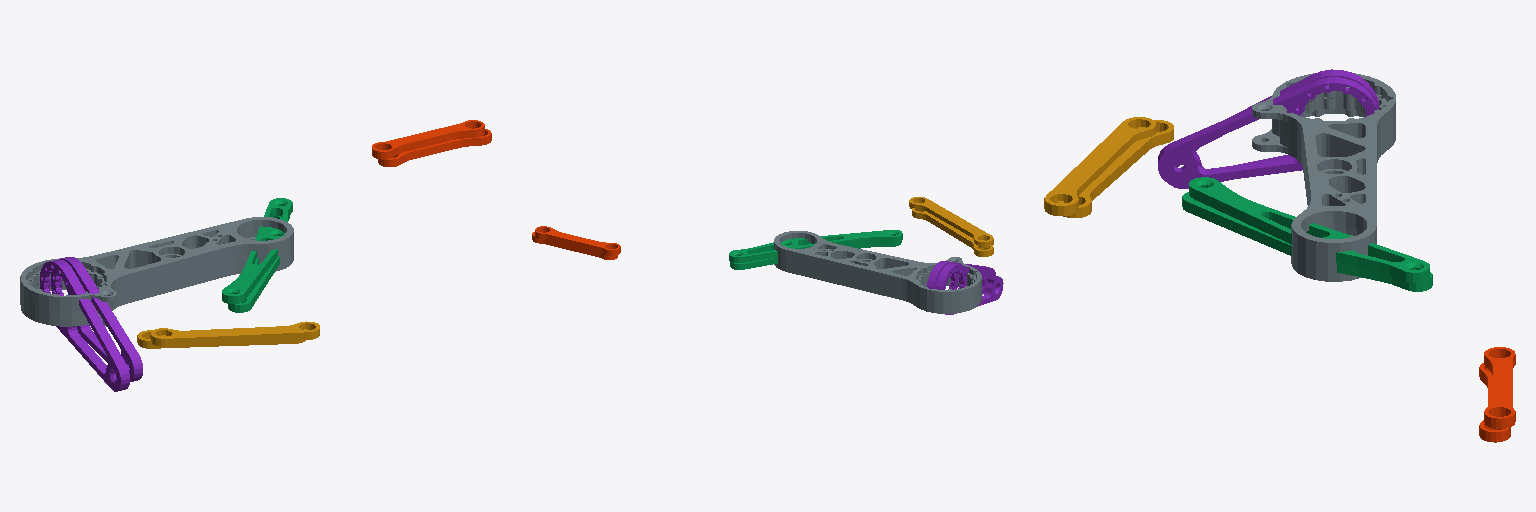
robot.urdf — urdf_V4.0_multilink:
<?xml version="1.0" encoding="utf-8"?>
<!-- V4.0 pure chassis MULTILINK URDF (FULL INFO): 15 links, 14 joints.
     - inertial: base/shank/wheel verbatim from SolidWorks URDF; C0-C4 from
       metrology (uniform-density diagnostic mass + rho*unit-density inertia
       at part COM; NOT CAD material truth).
     - collision: visual-grade mesh (swap in assets/urdf_v40/collisions
       convex hulls for physics).
     - Two closed loops per side are CUT: C0_A and shank_E.
     - Zero pose = 68 deg reference assembly.
     - ACTIVE: hip_crank / knee / wheel (3 control DOFs per leg); PASSIVE pins
       do not auto-follow in plain URDF viewers. -->
<robot name="urdf_V4.0_multilink">
  <link name="base_link">
    <inertial>
      <origin xyz="0.0003 0.005 -0.053" rpy="0 0 0"/>
      <mass value="10.8"/>
      <inertia ixx="0.126" ixy="0.000264" ixz="-0.00049" iyy="0.178" iyz="0.004123" izz="0.255"/>
    </inertial>
    <visual>
      <origin xyz="0 0 0" rpy="0 0 0"/>
      <geometry><mesh filename="parts_split/base_link.stl"/></geometry>
      <material name="mat_base_link">
        <color rgba="0.600 0.650 0.740 1"/>
      </material>
    </visual>
    <collision>
      <origin xyz="0 0 0" rpy="0 0 0"/>
      <geometry><mesh filename="parts_split/base_link.stl"/></geometry>
    </collision>
  </link>
  <link name="L_crank">
    <inertial>
      <origin xyz="-0.0498124339 -0.0151401454 0.00580394803" rpy="0 0 0"/>
      <mass value="0.0458422"/>
      <inertia ixx="2.32353e-05" ixy="-2.46645e-05" ixz="9.93133e-07" iyy="9.69597e-05" iyz="3.01419e-07" izz="0.000119449"/>
    </inertial>
    <visual>
      <origin xyz="0 0 0" rpy="0 0 0"/>
      <geometry><mesh filename="parts_split/L_crank.stl"/></geometry>
      <material name="mat_L_crank">
        <color rgba="0.570 0.230 0.780 1"/>
      </material>
    </visual>
    <collision>
      <origin xyz="0 0 0" rpy="0 0 0"/>
      <geometry><mesh filename="parts_split/L_crank.stl"/></geometry>
    </collision>
  </link>
  <link name="L_lower_coupler">
    <inertial>
      <origin xyz="-0.0488759345 -0.0647662333 -0.00279999984" rpy="0 0 0"/>
      <mass value="0.0322168"/>
      <inertia ixx="1.2043e-05" ixy="2.29181e-05" ixz="-0" iyy="4.95321e-05" iyz="4.21899e-21" izz="6.12314e-05"/>
    </inertial>
    <visual>
      <origin xyz="0 0 0" rpy="0 0 0"/>
      <geometry><mesh filename="parts_split/L_lower_coupler.stl"/></geometry>
      <material name="mat_L_lower_coupler">
        <color rgba="0.850 0.600 0.100 1"/>
      </material>
    </visual>
    <collision>
      <origin xyz="0 0 0" rpy="0 0 0"/>
      <geometry><mesh filename="parts_split/L_lower_coupler.stl"/></geometry>
    </collision>
  </link>
  <link name="L_thigh">
    <inertial>
      <origin xyz="0.0956146547 0.00330434368 -0.00748832969" rpy="0 0 0"/>
      <mass value="0.182281"/>
      <inertia ixx="8.78152e-05" ixy="-2.6108e-05" ixz="4.37287e-06" iyy="0.00106151" iyz="-5.89595e-07" izz="0.00114271"/>
    </inertial>
    <visual>
      <origin xyz="0 0 0" rpy="0 0 0"/>
      <geometry><mesh filename="parts_split/L_thigh.stl"/></geometry>
      <material name="mat_L_thigh">
        <color rgba="0.480 0.540 0.570 1"/>
      </material>
    </visual>
    <collision>
      <origin xyz="0 0 0" rpy="0 0 0"/>
      <geometry><mesh filename="parts_split/L_thigh.stl"/></geometry>
    </collision>
  </link>
  <link name="L_rocker_3hole">
    <inertial>
      <origin xyz="0.0836779264 -0.0220245609 0.0039620788" rpy="0 0 0"/>
      <mass value="0.0459248"/>
      <inertia ixx="0.000106177" ixy="-9.45059e-05" ixz="1.49091e-08" iyy="8.99092e-05" iyz="1.82932e-08" izz="0.000195602"/>
    </inertial>
    <visual>
      <origin xyz="0 0 0" rpy="0 0 0"/>
      <geometry><mesh filename="parts_split/L_rocker_3hole.stl"/></geometry>
      <material name="mat_L_rocker_3hole">
        <color rgba="0.080 0.660 0.380 1"/>
      </material>
    </visual>
    <collision>
      <origin xyz="0 0 0" rpy="0 0 0"/>
      <geometry><mesh filename="parts_split/L_rocker_3hole.stl"/></geometry>
    </collision>
  </link>
  <link name="L_upper_coupler">
    <inertial>
      <origin xyz="0.198313779 0.0577054243 -0.004" rpy="0 0 0"/>
      <mass value="0.0197356"/>
      <inertia ixx="6.06231e-07" ixy="3.07642e-08" ixz="-2.25013e-20" iyy="1.94331e-05" iyz="-2.10949e-21" izz="1.98288e-05"/>
    </inertial>
    <visual>
      <origin xyz="0 0 0" rpy="0 0 0"/>
      <geometry><mesh filename="parts_split/L_upper_coupler.stl"/></geometry>
      <material name="mat_L_upper_coupler">
        <color rgba="0.950 0.300 0.060 1"/>
      </material>
    </visual>
    <collision>
      <origin xyz="0 0 0" rpy="0 0 0"/>
      <geometry><mesh filename="parts_split/L_upper_coupler.stl"/></geometry>
    </collision>
  </link>
  <link name="L_shank">
    <inertial>
      <origin xyz="0.15963 8.3413E-05 0.011927" rpy="0 0 0"/>
      <mass value="0.45"/>
      <inertia ixx="0.000167" ixy="8.4e-05" ixz="0.000191" iyy="0.0049" iyz="0" izz="0.00496"/>
    </inertial>
    <visual>
      <origin xyz="0 0 0" rpy="0 0 0"/>
      <geometry><mesh filename="parts_split/L_shank.stl"/></geometry>
      <material name="mat_L_shank">
        <color rgba="0.100 0.400 0.900 1"/>
      </material>
    </visual>
    <collision>
      <origin xyz="0 0 0" rpy="0 0 0"/>
      <geometry><mesh filename="parts_split/L_shank.stl"/></geometry>
      <!-- solidworks collision origin preserved -->    </collision>
  </link>
  <link name="L_wheel">
    <inertial>
      <origin xyz="0 0 0.020472" rpy="0 0 0"/>
      <mass value="0.2"/>
      <inertia ixx="0.000296" ixy="0" ixz="0" iyy="0.000296" iyz="0" izz="0.000575"/>
    </inertial>
    <visual>
      <origin xyz="0 0 0" rpy="0 0 0"/>
      <geometry><mesh filename="parts_split/L_wheel.stl"/></geometry>
      <material name="mat_L_wheel">
        <color rgba="0.080 0.100 0.140 1"/>
      </material>
    </visual>
    <collision>
      <origin xyz="0 0 0" rpy="0 0 0"/>
      <geometry><mesh filename="parts_split/L_wheel.stl"/></geometry>
      <!-- solidworks collision origin preserved -->    </collision>
  </link>
  <link name="R_crank">
    <inertial>
      <origin xyz="-0.0485419076 -0.018819839 -0.00659605165" rpy="0 0 0"/>
      <mass value="0.0458562"/>
      <inertia ixx="2.73309e-05" ixy="-2.98915e-05" ixz="9.68131e-07" iyy="9.2901e-05" iyz="3.74899e-07" izz="0.000119485"/>
    </inertial>
    <visual>
      <origin xyz="0 0 0" rpy="0 0 0"/>
      <geometry><mesh filename="parts_split/R_crank.stl"/></geometry>
      <material name="mat_R_crank">
        <color rgba="0.570 0.230 0.780 1"/>
      </material>
    </visual>
    <collision>
      <origin xyz="0 0 0" rpy="0 0 0"/>
      <geometry><mesh filename="parts_split/R_crank.stl"/></geometry>
    </collision>
  </link>
  <link name="R_lower_coupler">
    <inertial>
      <origin xyz="-0.0452387419 -0.0710922796 0.00280000025" rpy="0 0 0"/>
      <mass value="0.0322267"/>
      <inertia ixx="1.07877e-05" ixy="2.18349e-05" ixz="-2.11014e-21" iyy="5.08063e-05" iyz="-0" izz="6.12502e-05"/>
    </inertial>
    <visual>
      <origin xyz="0 0 0" rpy="0 0 0"/>
      <geometry><mesh filename="parts_split/R_lower_coupler.stl"/></geometry>
      <material name="mat_R_lower_coupler">
        <color rgba="0.850 0.600 0.100 1"/>
      </material>
    </visual>
    <collision>
      <origin xyz="0 0 0" rpy="0 0 0"/>
      <geometry><mesh filename="parts_split/R_lower_coupler.stl"/></geometry>
    </collision>
  </link>
  <link name="R_thigh">
    <inertial>
      <origin xyz="0.0956315182 0.003314222 0.00748675127" rpy="0 0 0"/>
      <mass value="0.182237"/>
      <inertia ixx="8.77817e-05" ixy="-2.60047e-05" ixz="-4.3887e-06" iyy="0.00106065" iyz="5.87377e-07" izz="0.00114181"/>
    </inertial>
    <visual>
      <origin xyz="0 0 0" rpy="0 0 0"/>
      <geometry><mesh filename="parts_split/R_thigh.stl"/></geometry>
      <material name="mat_R_thigh">
        <color rgba="0.480 0.540 0.570 1"/>
      </material>
    </visual>
    <collision>
      <origin xyz="0 0 0" rpy="0 0 0"/>
      <geometry><mesh filename="parts_split/R_thigh.stl"/></geometry>
    </collision>
  </link>
  <link name="R_rocker_3hole">
    <inertial>
      <origin xyz="0.0847377772 -0.0233871582 -0.00403792138" rpy="0 0 0"/>
      <mass value="0.0459389"/>
      <inertia ixx="0.000114985" ixy="-9.3365e-05" ixz="1.40437e-08" iyy="8.11614e-05" iyz="1.89746e-08" izz="0.000195661"/>
    </inertial>
    <visual>
      <origin xyz="0 0 0" rpy="0 0 0"/>
      <geometry><mesh filename="parts_split/R_rocker_3hole.stl"/></geometry>
      <material name="mat_R_rocker_3hole">
        <color rgba="0.080 0.660 0.380 1"/>
      </material>
    </visual>
    <collision>
      <origin xyz="0 0 0" rpy="0 0 0"/>
      <geometry><mesh filename="parts_split/R_rocker_3hole.stl"/></geometry>
    </collision>
  </link>
  <link name="R_upper_coupler">
    <inertial>
      <origin xyz="0.195650886 0.059343764 0.00400000019" rpy="0 0 0"/>
      <mass value="0.0197417"/>
      <inertia ixx="6.06416e-07" ixy="3.07736e-08" ixz="-2.81352e-21" iyy="1.9439e-05" iyz="-4.22028e-21" izz="1.98348e-05"/>
    </inertial>
    <visual>
      <origin xyz="0 0 0" rpy="0 0 0"/>
      <geometry><mesh filename="parts_split/R_upper_coupler.stl"/></geometry>
      <material name="mat_R_upper_coupler">
        <color rgba="0.950 0.300 0.060 1"/>
      </material>
    </visual>
    <collision>
      <origin xyz="0 0 0" rpy="0 0 0"/>
      <geometry><mesh filename="parts_split/R_upper_coupler.stl"/></geometry>
    </collision>
  </link>
  <link name="R_shank">
    <inertial>
      <origin xyz="0.15963 8.3412E-05 -0.011927" rpy="0 0 0"/>
      <mass value="0.45"/>
      <inertia ixx="0.000167" ixy="8.4e-05" ixz="-0.000192" iyy="0.0049" iyz="0" izz="0.00496"/>
    </inertial>
    <visual>
      <origin xyz="0 0 0" rpy="0 0 0"/>
      <geometry><mesh filename="parts_split/R_shank.stl"/></geometry>
      <material name="mat_R_shank">
        <color rgba="0.100 0.400 0.900 1"/>
      </material>
    </visual>
    <collision>
      <origin xyz="0 0 0" rpy="0 0 0"/>
      <geometry><mesh filename="parts_split/R_shank.stl"/></geometry>
      <!-- solidworks collision origin preserved -->    </collision>
  </link>
  <link name="R_wheel">
    <inertial>
      <origin xyz="0 0 -0.020472" rpy="0 0 0"/>
      <mass value="0.2"/>
      <inertia ixx="0.000296" ixy="0" ixz="0" iyy="0.000296" iyz="0" izz="0.000575"/>
    </inertial>
    <visual>
      <origin xyz="0 0 0" rpy="0 0 0"/>
      <geometry><mesh filename="parts_split/R_wheel.stl"/></geometry>
      <material name="mat_R_wheel">
        <color rgba="0.080 0.100 0.140 1"/>
      </material>
    </visual>
    <collision>
      <origin xyz="0 0 0" rpy="0 0 0"/>
      <geometry><mesh filename="parts_split/R_wheel.stl"/></geometry>
      <!-- solidworks collision origin preserved -->    </collision>
  </link>
  <joint name="L_joint1_crank" type="revolute">
    <parent link="base_link"/>
    <child link="L_crank"/>
    <origin xyz="0 0 0" rpy="1.57535002938105 0 1.5707963267949"/>
    <axis xyz="0 0 -1"/>
    <limit lower="-3.140000" upper="3.140000" effort="40" velocity="10"/>
    <dynamics damping="0.0" friction="0"/>
    <!-- ACTIVE hip (drives crank) -->
  </joint>
  <joint name="L_joint1_thigh" type="revolute">
    <parent link="base_link"/>
    <child link="L_thigh"/>
    <origin xyz="0 0 0" rpy="0 0 0"/>
    <axis xyz="0 0 1"/>
    <limit lower="-3.140000" upper="3.140000" effort="0" velocity="10"/>
    <dynamics damping="0.05" friction="0"/>
    <!-- PASSIVE-COUPLED coaxial with hip; follows closed chain -->
  </joint>
  <joint name="L_J_P" type="revolute">
    <parent link="L_thigh"/>
    <child link="L_rocker_3hole"/>
    <origin xyz="0.113400000 -0.000000000 0" rpy="0 0 0"/>
    <axis xyz="0 0 1"/>
    <limit lower="-0.176731" upper="0.708667" effort="0" velocity="10"/>
    <dynamics damping="0.05" friction="0"/>
    <!-- PASSIVE pin thigh-rocker; NOT auto-followed in plain URDF viewers -->
  </joint>
  <joint name="L_J_D" type="revolute">
    <parent link="L_rocker_3hole"/>
    <child link="L_lower_coupler"/>
    <origin xyz="0.013488191 -0.090788933 0" rpy="0 0 0"/>
    <axis xyz="0 0 1"/>
    <limit lower="-0.800000" upper="0.800000" effort="0" velocity="10"/>
    <dynamics damping="0.05" friction="0"/>
    <!-- PASSIVE pin rocker-lower coupler; chain cut at C0_A -->
  </joint>
  <joint name="L_J_B" type="revolute">
    <parent link="L_rocker_3hole"/>
    <child link="L_upper_coupler"/>
    <origin xyz="0.149830838 0.056229830 0" rpy="0 0 0"/>
    <axis xyz="0 0 1"/>
    <limit lower="-0.800000" upper="0.800000" effort="0" velocity="10"/>
    <dynamics damping="0.05" friction="0"/>
    <!-- PASSIVE pin rocker-upper coupler; chain cut at shank_E -->
  </joint>
  <joint name="L_joint2_knee" type="revolute">
    <parent link="L_thigh"/>
    <child link="L_shank"/>
    <origin xyz="0.21 0 0" rpy="0 0 -2.404"/>
    <axis xyz="0 0 1"/>
    <limit lower="-0.126727" upper="0.658671" effort="40" velocity="10"/>
    <dynamics damping="0.0" friction="0"/>
    <!-- ACTIVE knee -->
  </joint>
  <joint name="L_joint3_wheel" type="revolute">
    <parent link="L_shank"/>
    <child link="L_wheel"/>
    <origin xyz="0.25 0 0.015" rpy="0 0 -1.5708"/>
    <axis xyz="0 0 1"/>
    <limit lower="-3.140000" upper="3.140000" effort="3.838" velocity="21"/>
    <dynamics damping="0.0" friction="0"/>
    <!-- ACTIVE wheel -->
  </joint>
  <joint name="R_joint1_crank" type="revolute">
    <parent link="base_link"/>
    <child link="R_crank"/>
    <origin xyz="0 0 0" rpy="1.57535002938105 0 1.5707963267949"/>
    <axis xyz="0 0 1"/>
    <limit lower="-3.140000" upper="3.140000" effort="40" velocity="10"/>
    <dynamics damping="0.0" friction="0"/>
    <!-- ACTIVE hip (drives crank) -->
  </joint>
  <joint name="R_joint1_thigh" type="revolute">
    <parent link="base_link"/>
    <child link="R_thigh"/>
    <origin xyz="0 0 0" rpy="0 0 0"/>
    <axis xyz="0 0 1"/>
    <limit lower="-3.140000" upper="3.140000" effort="0" velocity="10"/>
    <dynamics damping="0.05" friction="0"/>
    <!-- PASSIVE-COUPLED coaxial with hip; follows closed chain -->
  </joint>
  <joint name="R_J_P" type="revolute">
    <parent link="R_thigh"/>
    <child link="R_rocker_3hole"/>
    <origin xyz="0.113399999 0.000000000 0" rpy="0 0 0"/>
    <axis xyz="0 0 1"/>
    <limit lower="-0.223399" upper="0.661999" effort="0" velocity="10"/>
    <dynamics damping="0.05" friction="0"/>
    <!-- PASSIVE pin thigh-rocker; NOT auto-followed in plain URDF viewers -->
  </joint>
  <joint name="R_J_D" type="revolute">
    <parent link="R_rocker_3hole"/>
    <child link="R_lower_coupler"/>
    <origin xyz="0.017832434 -0.095351141 0" rpy="0 0 0"/>
    <axis xyz="0 0 1"/>
    <limit lower="-0.800000" upper="0.800000" effort="0" velocity="10"/>
    <dynamics damping="0.05" friction="0"/>
    <!-- PASSIVE pin rocker-lower coupler; chain cut at C0_A -->
  </joint>
  <joint name="R_J_B" type="revolute">
    <parent link="R_rocker_3hole"/>
    <child link="R_upper_coupler"/>
    <origin xyz="0.147167953 0.057868173 0" rpy="0 0 0"/>
    <axis xyz="0 0 1"/>
    <limit lower="-0.800000" upper="0.800000" effort="0" velocity="10"/>
    <dynamics damping="0.05" friction="0"/>
    <!-- PASSIVE pin rocker-upper coupler; chain cut at shank_E -->
  </joint>
  <joint name="R_joint2_knee" type="revolute">
    <parent link="R_thigh"/>
    <child link="R_shank"/>
    <origin xyz="0.21 0 0" rpy="0 0 -2.3573"/>
    <axis xyz="0 0 -1"/>
    <limit lower="-0.612000" upper="0.173000" effort="40" velocity="10"/>
    <dynamics damping="0.0" friction="0"/>
    <!-- ACTIVE knee -->
  </joint>
  <joint name="R_joint3_wheel" type="revolute">
    <parent link="R_shank"/>
    <child link="R_wheel"/>
    <origin xyz="0.249999999999996 0 -0.0150000000000006" rpy="0 0 3.14159265358979"/>
    <axis xyz="0 0 -1"/>
    <limit lower="-3.140000" upper="3.140000" effort="3.838" velocity="21"/>
    <dynamics damping="0.0" friction="0"/>
    <!-- ACTIVE wheel -->
  </joint>
</robot>

--- What the picture shows (computed from the rendered views, not written in the file) ---
Views: 3 orthographic renders of the robot side by side, from view 1: azimuth 30°, elevation 25°; view 2: azimuth 150°, elevation 25°; view 3: azimuth 270°, elevation 25°.
Robot: urdf_V4.0_multilink — 15 links, 14 joints (14 revolute); root link base_link; default pose: all joints at 0.
Visible links, largest first — view 1: R_thigh, L_thigh, R_crank, R_lower_coupler, L_crank, L_rocker_3hole, R_upper_coupler, L_upper_coupler, R_rocker_3hole, L_lower_coupler; view 2: R_thigh, L_thigh, L_rocker_3hole, R_lower_coupler, R_crank, R_upper_coupler, L_lower_coupler, L_crank; view 3: R_thigh, L_crank, L_rocker_3hole, L_thigh, R_lower_coupler, R_rocker_3hole, R_upper_coupler, L_lower_coupler, R_crank, L_upper_coupler.
Link boxes in pixels (box(x1,y1,x2,y2)): R_thigh: box(20, 217, 293, 311); L_thigh: box(20, 233, 293, 326); R_crank: box(40, 259, 129, 391); R_lower_coupler: box(151, 321, 319, 346); L_crank: box(51, 257, 142, 381); L_rocker_3hole: box(222, 198, 292, 303); R_upper_coupler: box(372, 120, 484, 159); L_upper_coupler: box(378, 129, 491, 166); R_rocker_3hole: box(228, 216, 289, 312); L_lower_coupler: box(137, 329, 306, 348); R_thigh: box(774, 231, 981, 302); L_thigh: box(774, 258, 981, 313); L_rocker_3hole: box(729, 230, 902, 262); R_lower_coupler: box(909, 197, 993, 247); R_crank: box(935, 263, 1003, 314); R_upper_coupler: box(535, 226, 620, 255); L_lower_coupler: box(912, 208, 993, 256); L_crank: box(926, 261, 995, 294); R_thigh: box(1252, 73, 1395, 261); L_crank: box(1158, 77, 1378, 185); L_rocker_3hole: box(1189, 177, 1429, 282); L_thigh: box(1252, 97, 1395, 281); R_lower_coupler: box(1044, 117, 1155, 215); R_rocker_3hole: box(1182, 192, 1432, 291); R_upper_coupler: box(1484, 347, 1515, 428); L_lower_coupler: box(1058, 120, 1173, 217); R_crank: box(1169, 69, 1378, 188); L_upper_coupler: box(1479, 363, 1510, 442).
Size in the robot's own frame: 0.5639 by 0.3294 by 0.0879 metres.
10 mesh visuals loaded from 15 distinct referenced files (10 binary STL); not drawn: 5 (reference not matched to a file when rendering).
